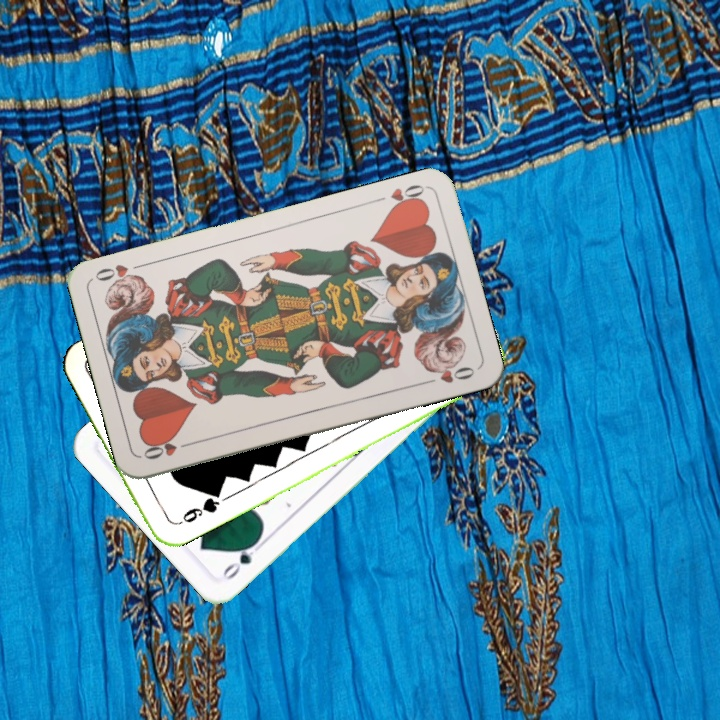G9: (170, 490, 223, 528)
GO: (218, 535, 266, 583)
HO: (139, 437, 197, 462), (386, 180, 429, 213)
